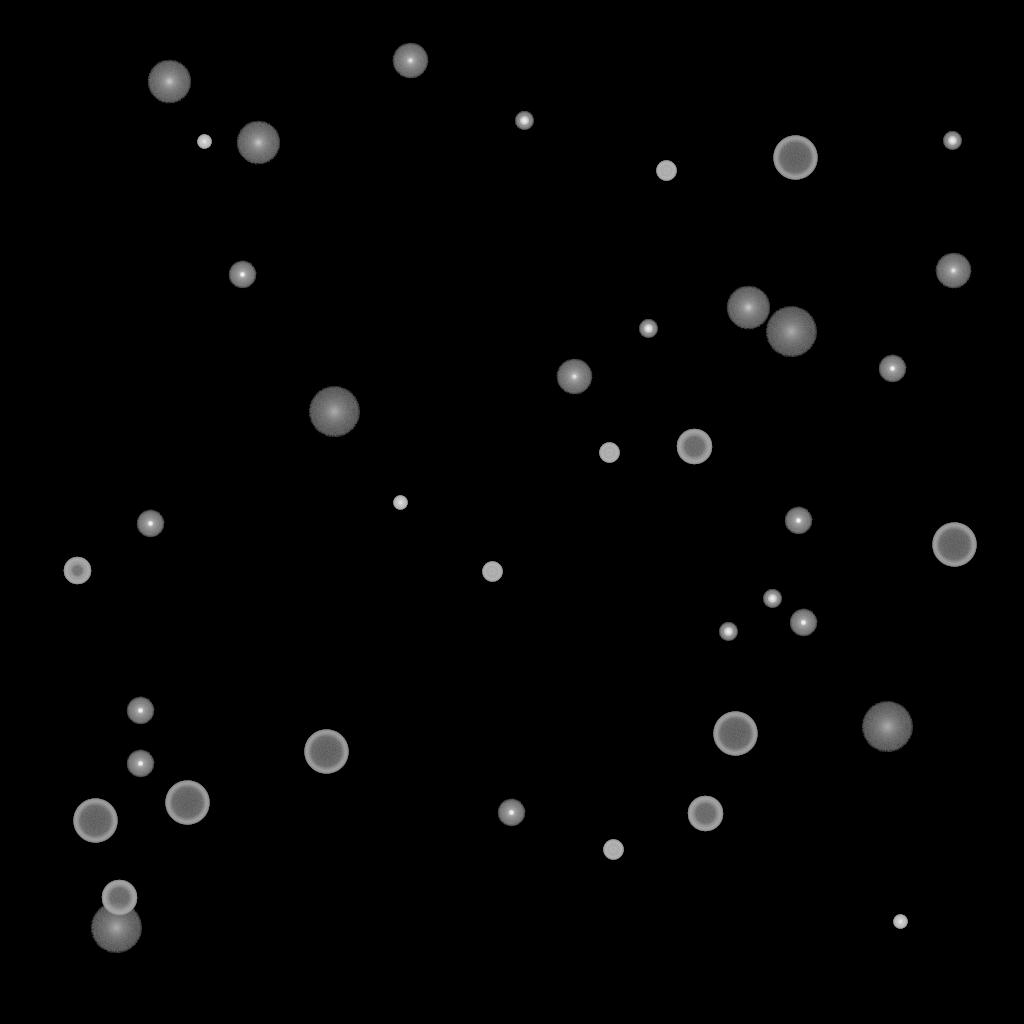depth:-10: (789, 609, 817, 637), (126, 697, 154, 725), (126, 750, 154, 778), (878, 355, 906, 383), (784, 507, 812, 535), (497, 799, 525, 827), (228, 261, 256, 289), (136, 510, 164, 538)
depth:-20: (943, 132, 961, 150), (719, 623, 737, 641), (515, 112, 533, 130), (639, 320, 657, 338), (763, 590, 781, 608)
depth:-30: (197, 135, 211, 149), (893, 915, 907, 929), (393, 496, 407, 510)
depth:-40: (656, 161, 676, 181), (599, 443, 619, 463), (603, 840, 623, 860), (482, 562, 502, 582)
depth:-50: (63, 557, 91, 585)
depth:-60: (687, 796, 723, 832), (676, 429, 712, 465), (101, 880, 137, 916)
depth:-70: (773, 136, 817, 180), (304, 730, 348, 774), (165, 781, 209, 825), (713, 712, 757, 756), (932, 523, 976, 567), (73, 799, 117, 843)
depth:0: (392, 43, 428, 79), (556, 359, 592, 395), (935, 253, 971, 289)
depth:10: (147, 60, 191, 104), (236, 121, 280, 165), (726, 286, 770, 330)
depth:20: (308, 387, 360, 437), (861, 702, 913, 752), (765, 307, 817, 357), (90, 903, 142, 953)
